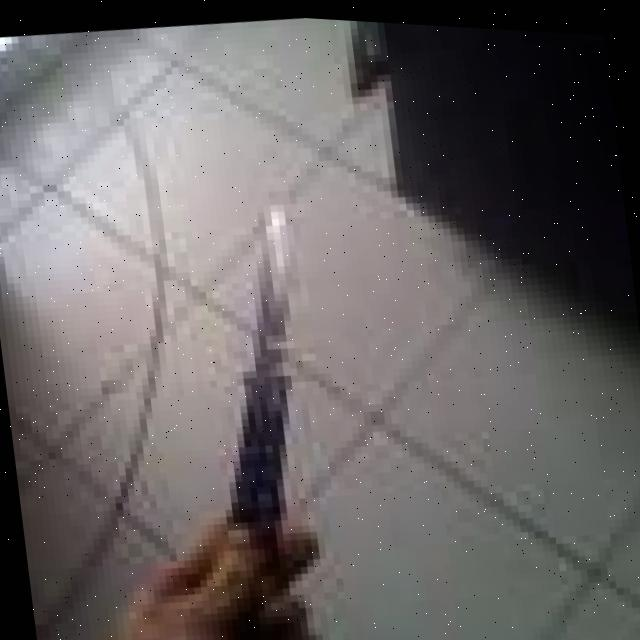knife: (188, 189, 326, 529)
